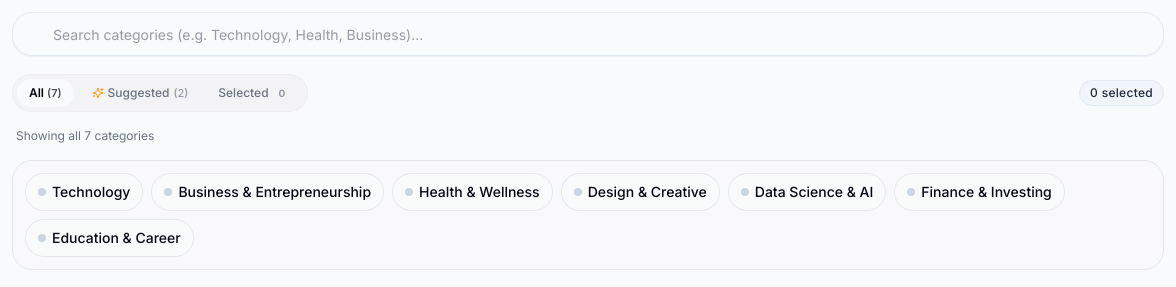
Test case: CategorySelector Component Integration › filters down to Suggested categories based on user profession and expertise from Stage 2
Click the button "Suggested (2)" at (140, 93), box [80,79,200,107]
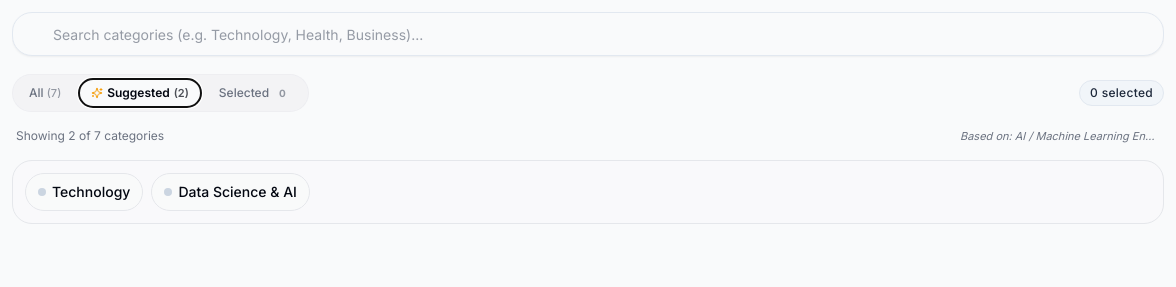
Expected: the text "Technology" is shown, [52,182,130,202]
Expected: the button "Health & Wellness" is gone
